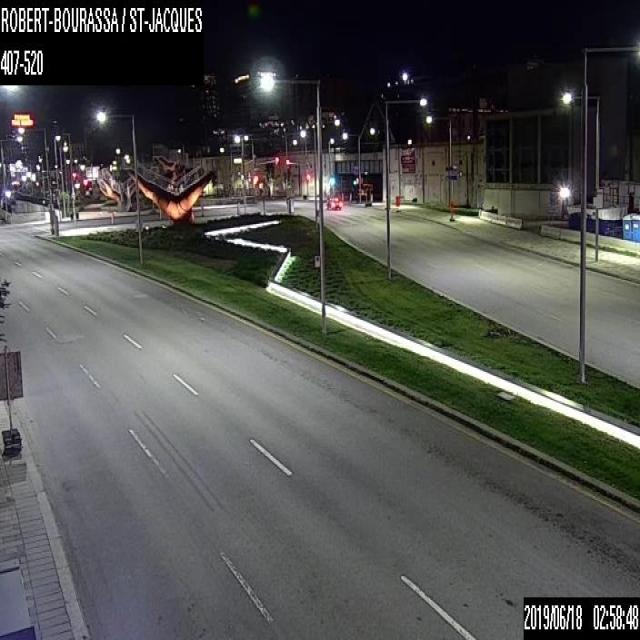vehicle: (326, 195, 342, 209)
